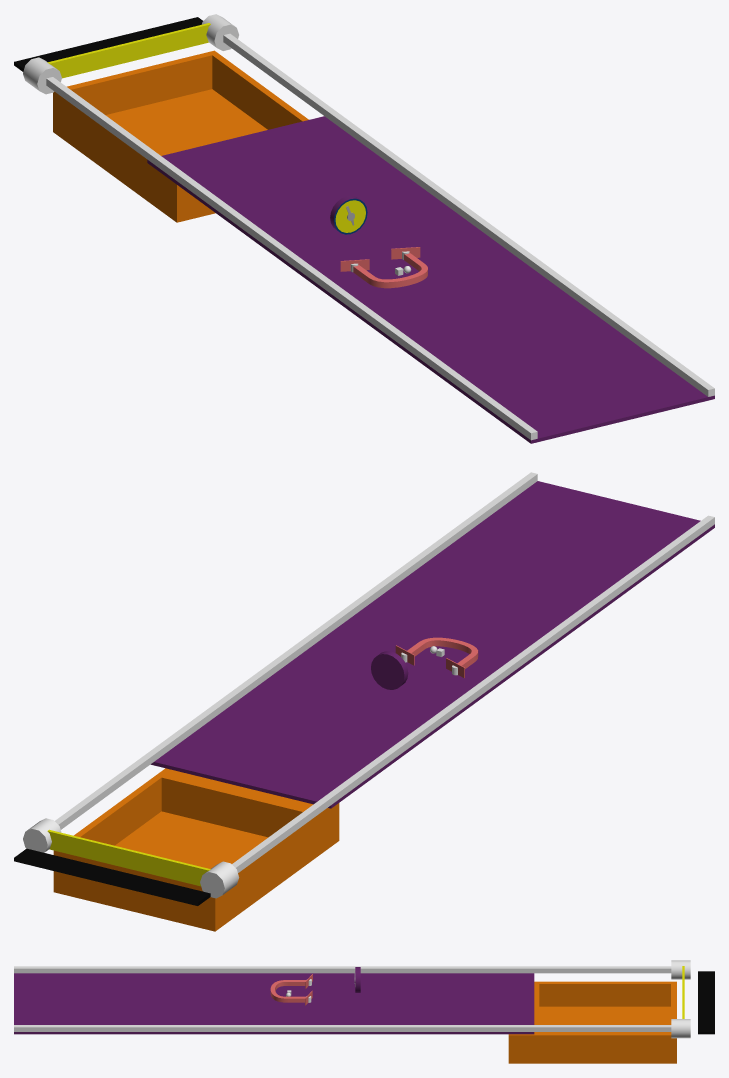
Rendered from models.fbx.
The picture shows the model from 3 angles, top to bottom: view 1: azimuth 30°, elevation 25°; view 2: azimuth 150°, elevation 25°; view 3: azimuth 270°, elevation 25°; orthographic projection. The views are drawn at different scales.
Visible parts, largest first — view 1: ground_plane_0, ground_plane_1, storage_basket, fence1, fence, barrier1, ground_plane_2, barrier, powerup, player_magnet, end_cylinder, end_cylinder1; view 2: ground_plane_0, ground_plane_1, storage_basket, fence1, fence, ground_plane_2, barrier1, barrier, powerup, end_cylinder, player_magnet, end_cylinder1; view 3: ground_plane_0, ground_plane_1, storage_basket, fence, fence1, ground_plane_2, player_magnet, end_cylinder1, end_cylinder.
Boxes of the visible parts, x1,y1,x2,y2 form: ground_plane_0: [339, 256, 714, 443]; ground_plane_1: [147, 116, 515, 302]; storage_basket: [53, 50, 308, 222]; fence1: [223, 33, 714, 396]; fence: [46, 77, 537, 440]; barrier1: [126, 23, 210, 62]; ground_plane_2: [14, 17, 202, 71]; barrier: [47, 43, 128, 78]; powerup: [330, 195, 367, 234]; player_magnet: [353, 253, 427, 288]; end_cylinder: [23, 57, 61, 94]; end_cylinder1: [202, 14, 238, 50]; ground_plane_0: [150, 481, 714, 808]; ground_plane_1: [154, 621, 522, 808]; storage_basket: [53, 768, 339, 931]; fence1: [55, 472, 537, 829]; fence: [232, 515, 714, 872]; ground_plane_2: [14, 848, 210, 905]; barrier1: [47, 829, 131, 868]; barrier: [129, 850, 210, 886]; powerup: [371, 651, 408, 689]; end_cylinder: [200, 861, 239, 898]; player_magnet: [407, 637, 478, 668]; end_cylinder1: [23, 818, 61, 852]; ground_plane_0: [14, 973, 274, 1034]; ground_plane_1: [274, 973, 534, 1034]; storage_basket: [508, 981, 676, 1063]; fence: [14, 966, 671, 973]; fence1: [14, 1025, 671, 1031]; ground_plane_2: [698, 971, 714, 1034]; player_magnet: [270, 980, 306, 1002]; end_cylinder1: [671, 1019, 690, 1038]; end_cylinder: [671, 960, 690, 979].
Bounding box in the file's own units: 504 × 219 × 2235.
